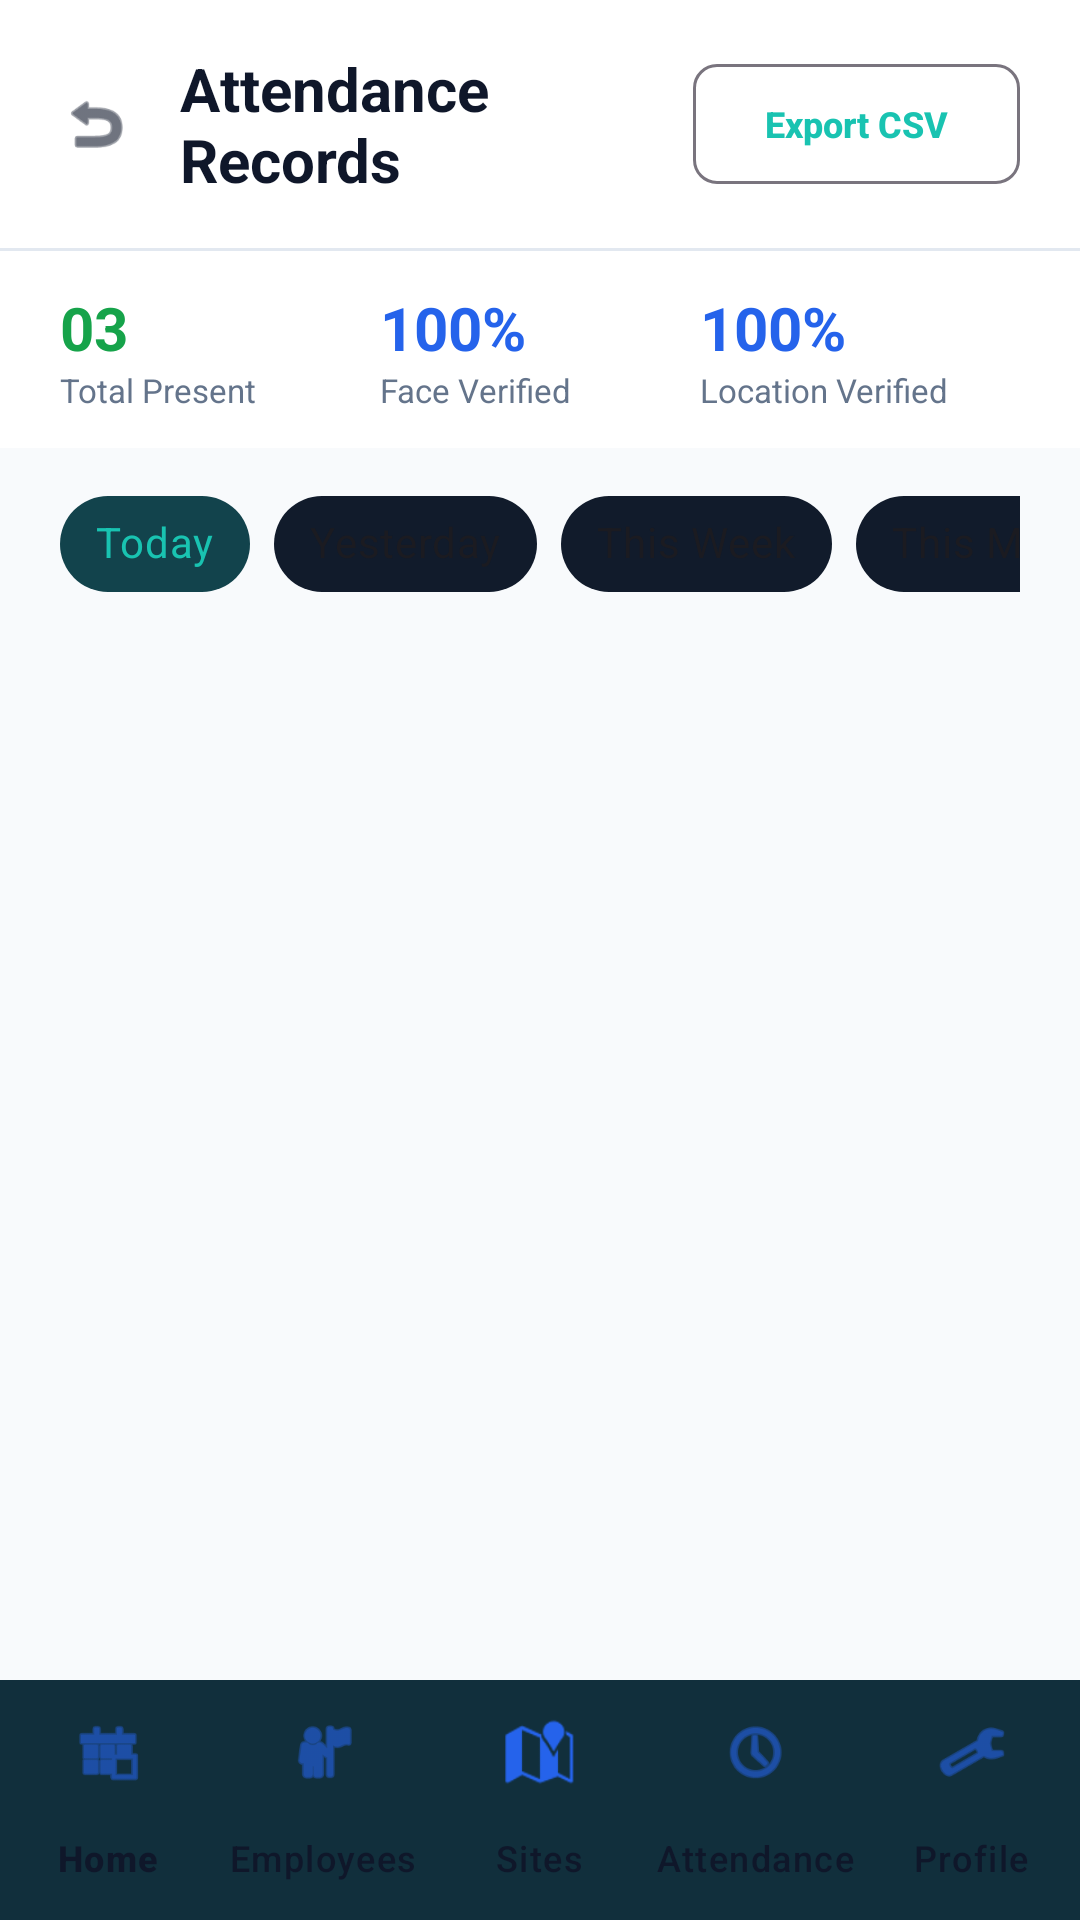

Icon click points for this 1080px x 1920px phone screenshot, format (x=x, y=y):
revert: (x=97, y=124)
